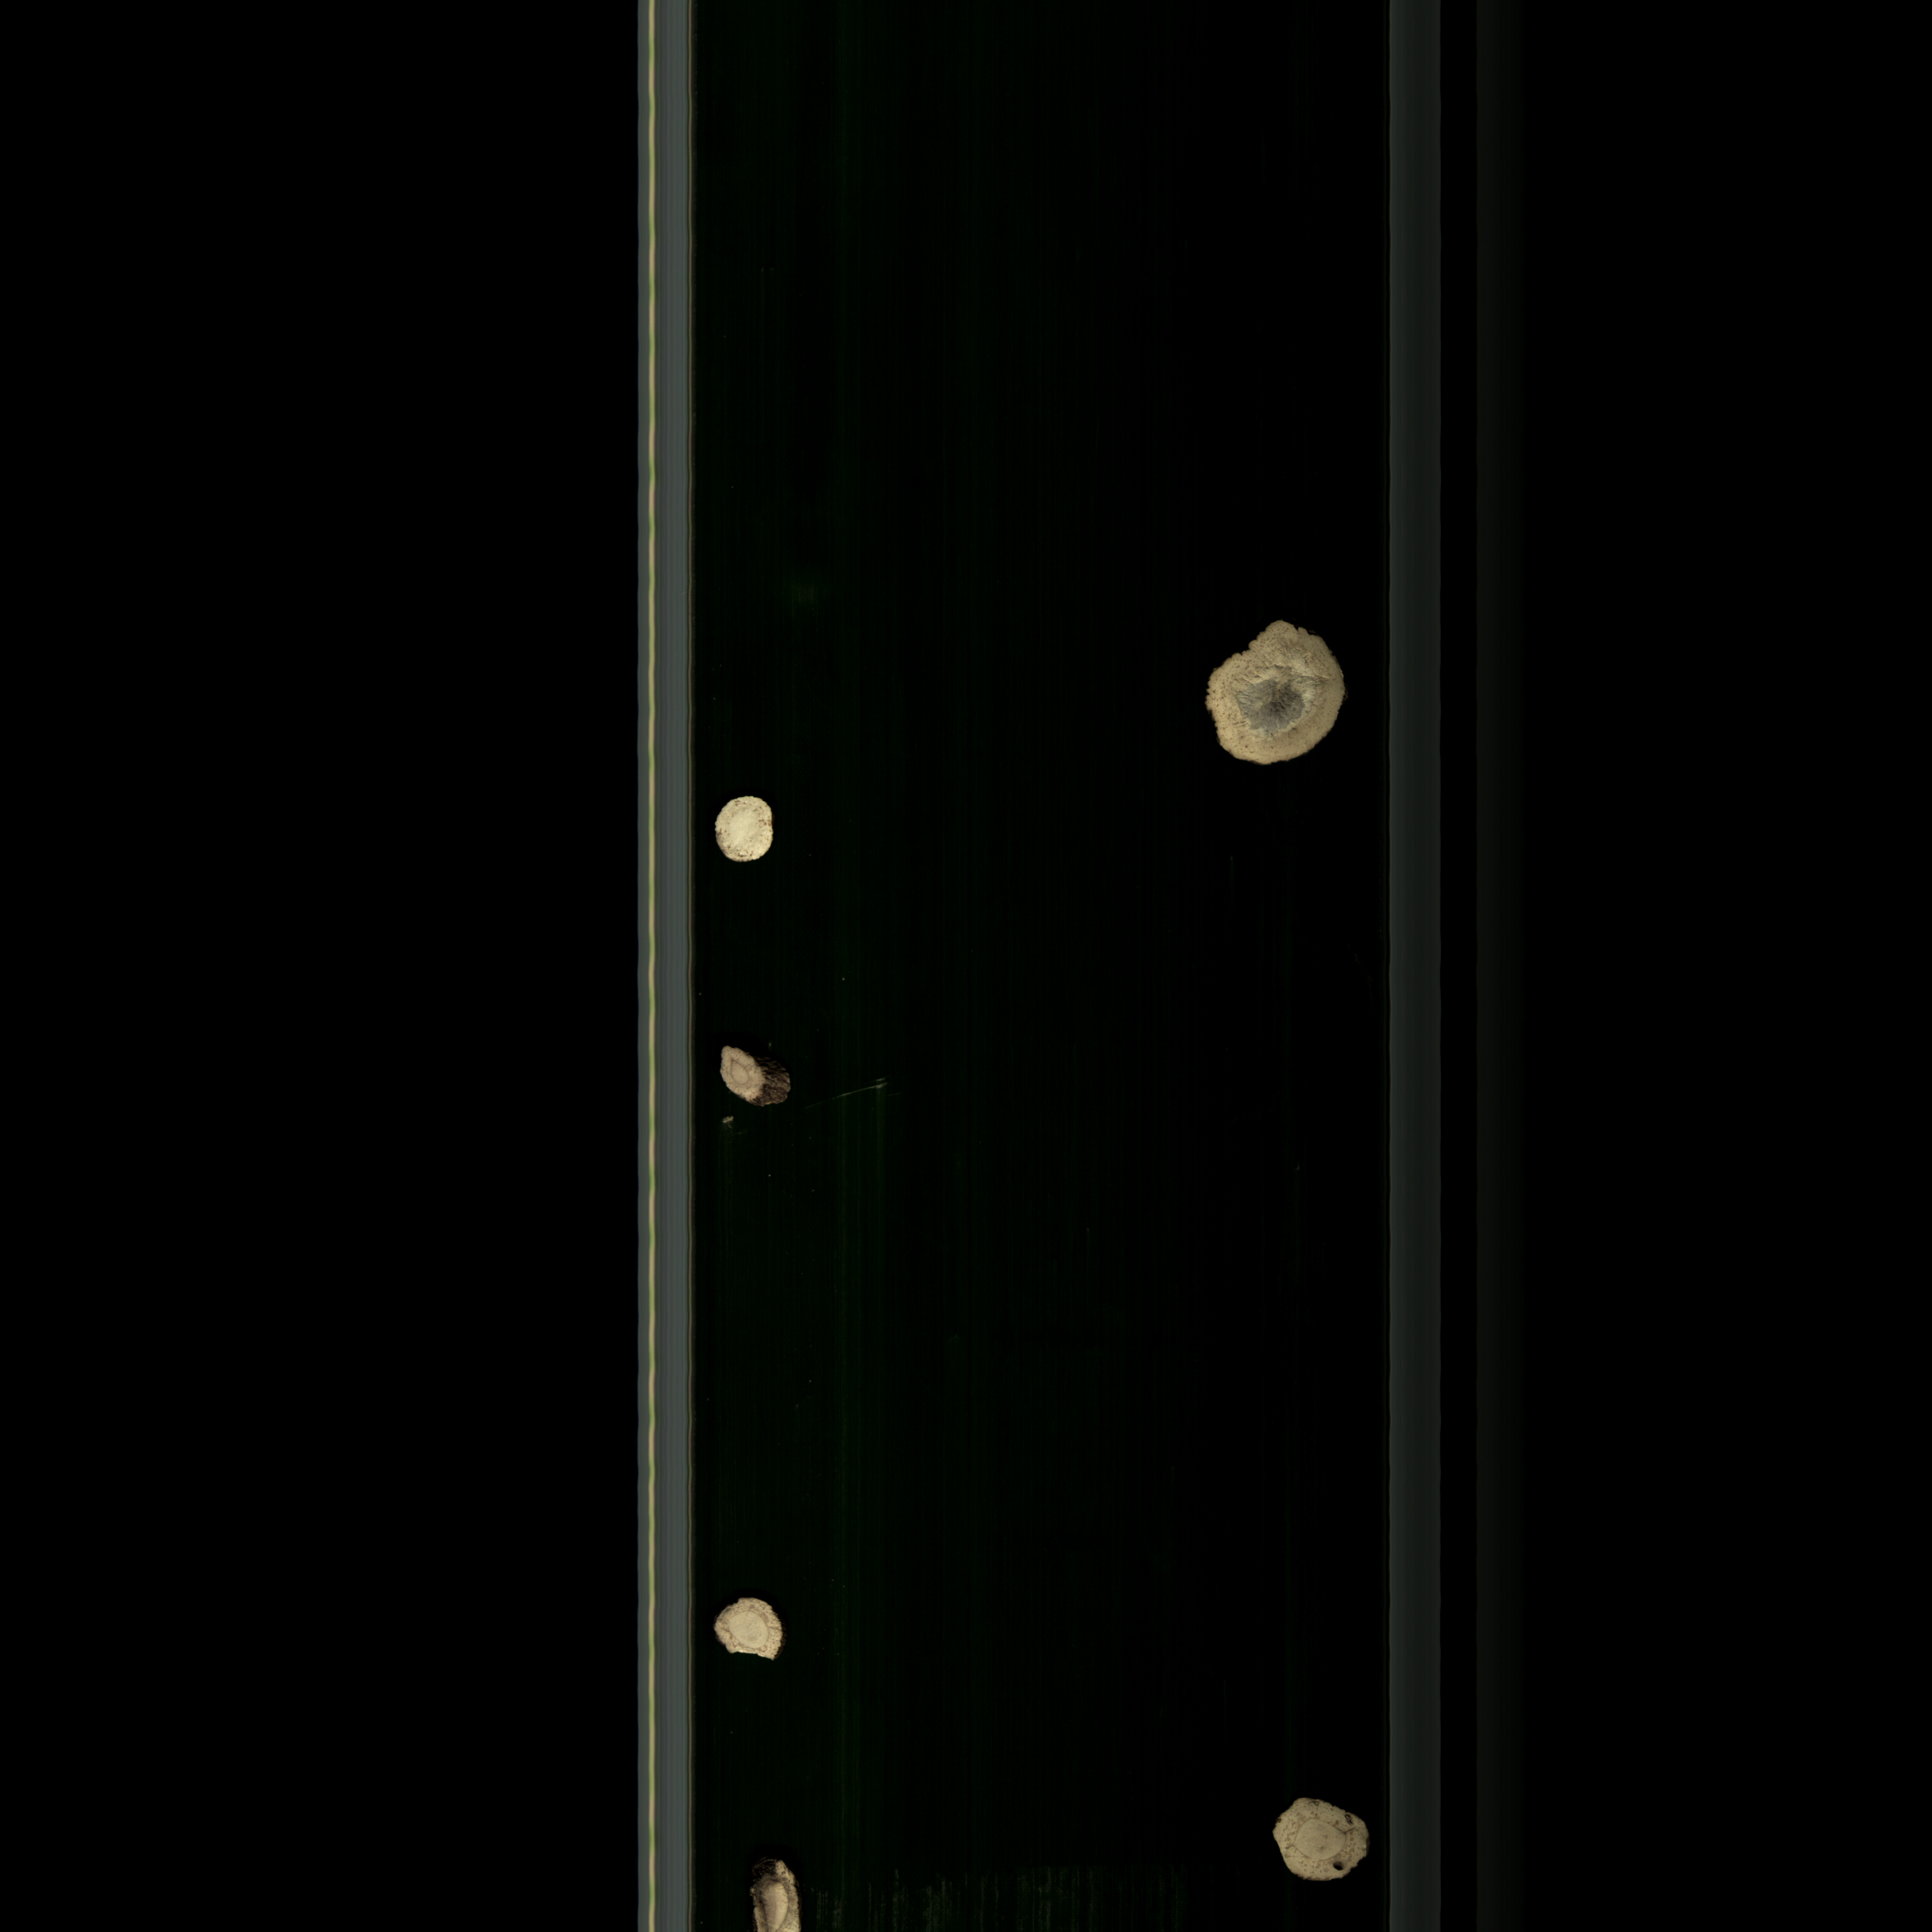bark: (715, 1035, 810, 1106)
debris: (704, 1592, 789, 1672)
dreg: (715, 1116, 738, 1131)
moldy: (1192, 607, 1353, 784), (1256, 1790, 1371, 1897), (720, 1845, 835, 1932)
